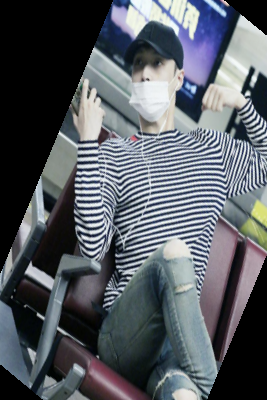mask_weared_incorrect: (117, 20, 191, 133)
